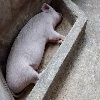heo: (2, 2, 64, 93)
